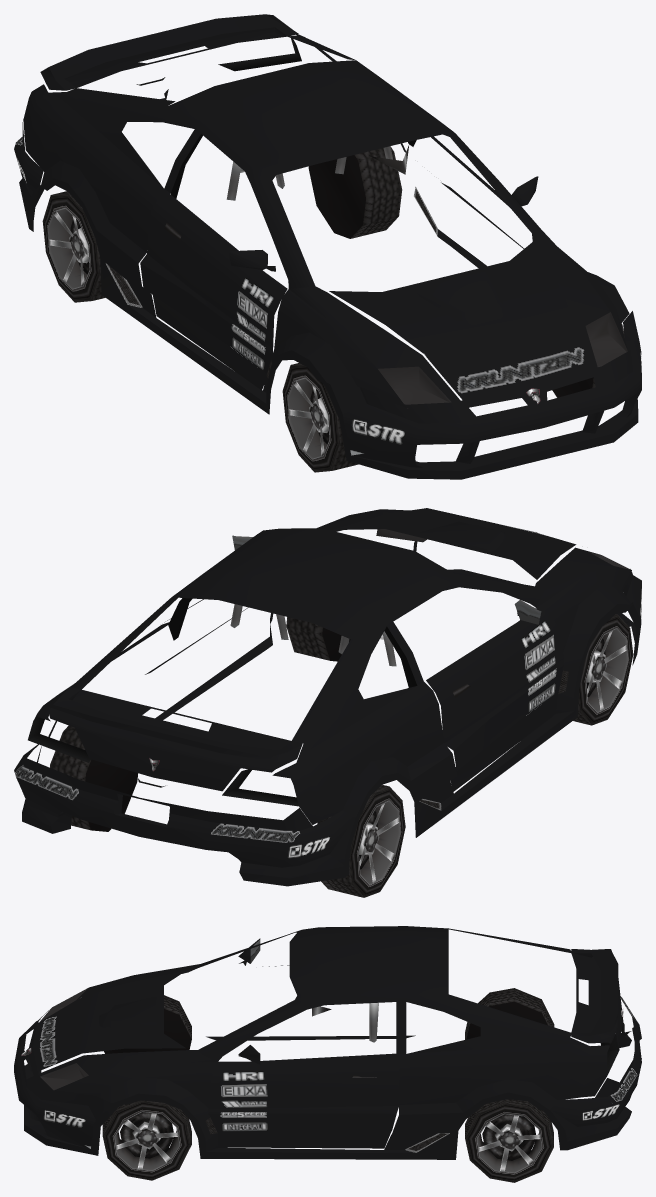
Rendered from car-COMP_Car3.glb.
3 views of the same model, one above another, from view 1: azimuth 30°, elevation 25°; view 2: azimuth 150°, elevation 25°; view 3: azimuth 270°, elevation 25° (orthographic). The views are drawn at different scales.
Visible parts, largest first — view 1: COMP_Car3; view 2: COMP_Car3; view 3: COMP_Car3.
Boxes of the visible parts, x1,y1,x2,y2 form: COMP_Car3: [14, 14, 641, 479]; COMP_Car3: [14, 508, 641, 897]; COMP_Car3: [14, 926, 641, 1182].
Bounding box in the file's own units: 2.07 × 1.41 × 4.64.
19 materials, 19 textured.
